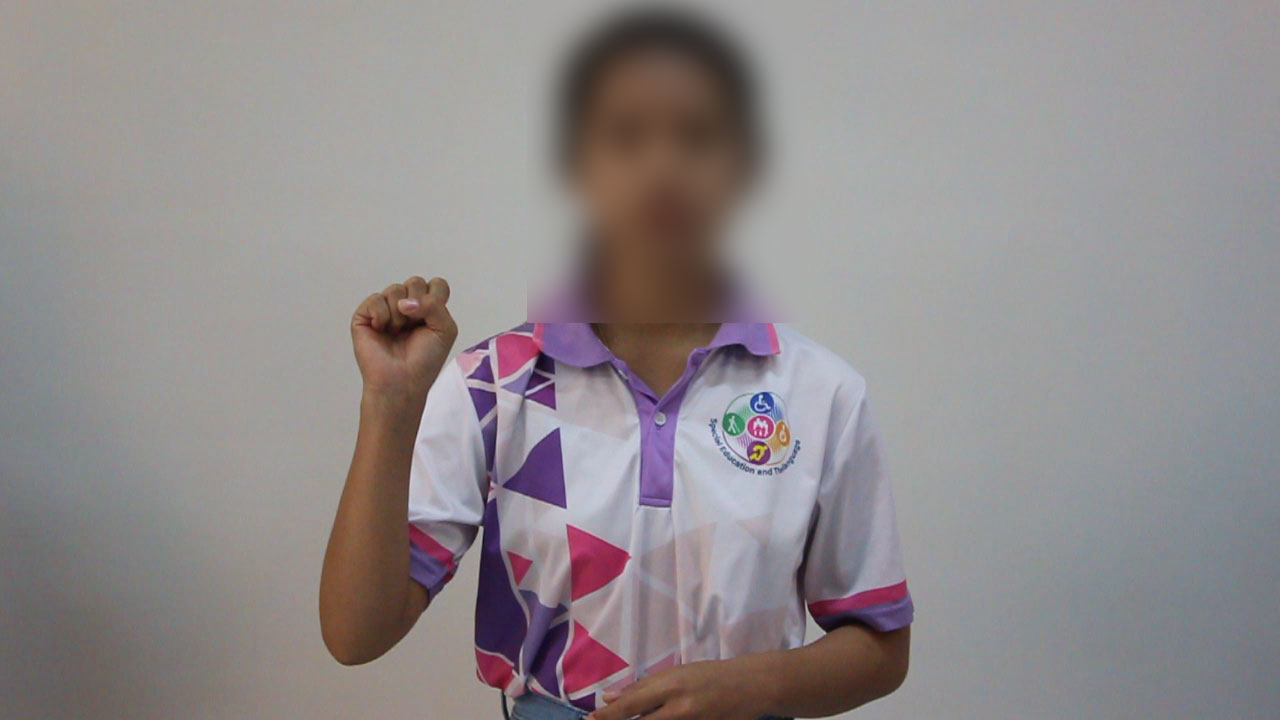sor: (308, 247, 475, 417)
